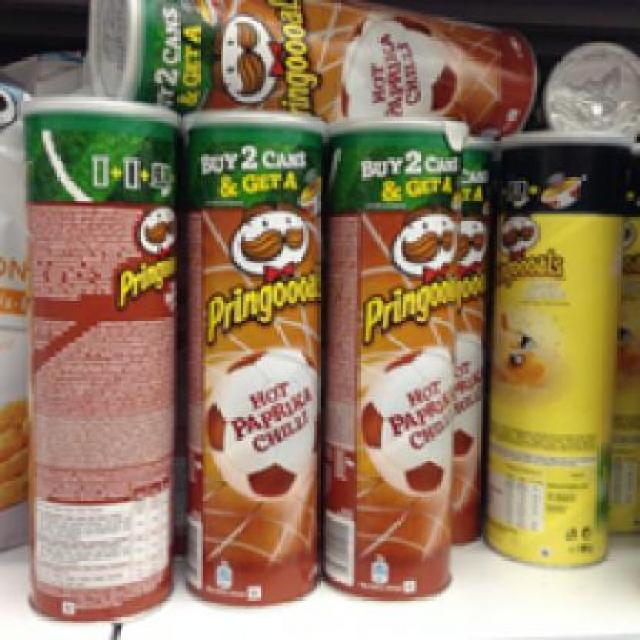Chips: (17, 91, 183, 624), (173, 106, 329, 608), (482, 132, 635, 572), (329, 109, 460, 600), (85, 0, 538, 129)
